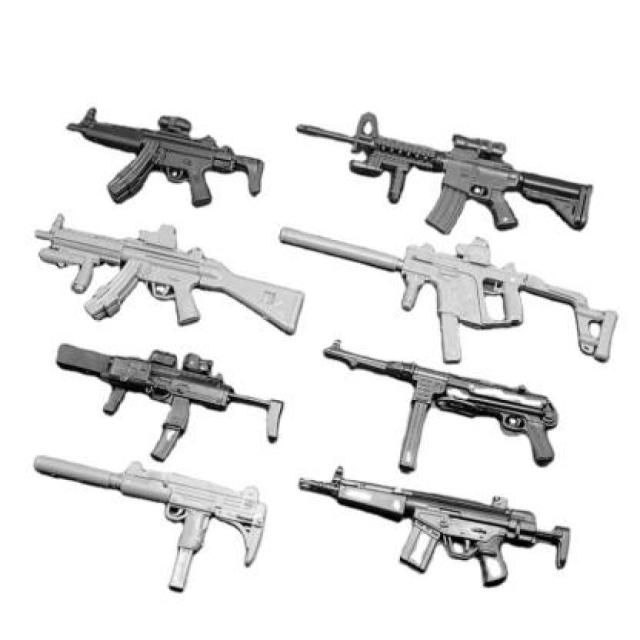weapon: (276, 227, 618, 370), (294, 108, 595, 240), (296, 464, 573, 592), (32, 210, 306, 338), (322, 336, 563, 476), (32, 456, 270, 596), (56, 341, 286, 464), (65, 100, 266, 208)
